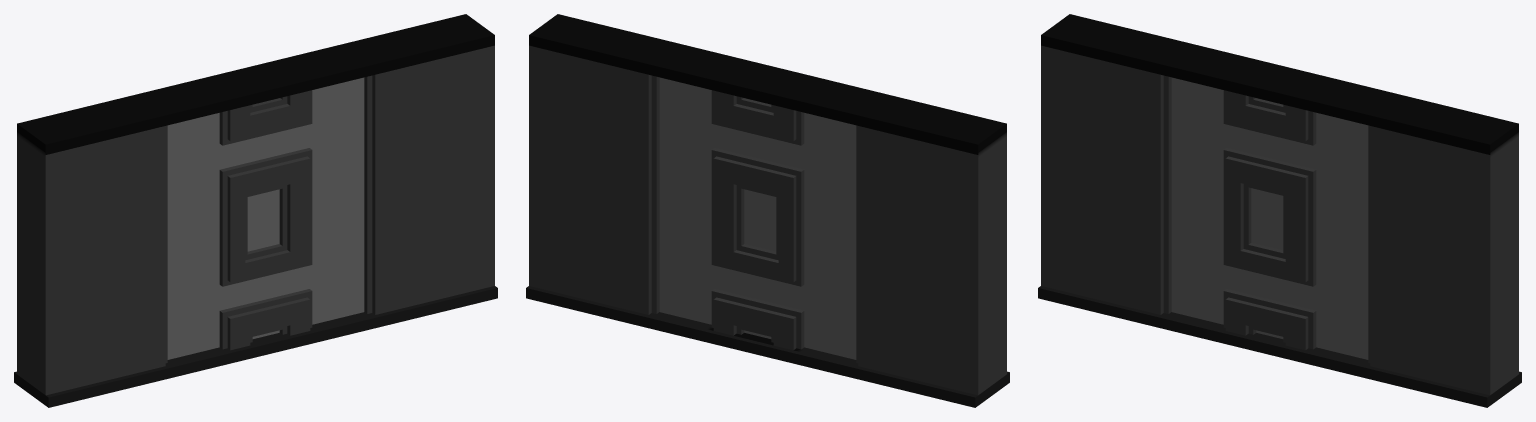
File: Wall-Stone-Model-07.fbx
The picture shows the model from 3 angles, left to right: view 1: azimuth 30°, elevation 25°; view 2: azimuth 150°, elevation 25°; view 3: azimuth 330°, elevation 25°; orthographic projection.
Parts seen in each view (by area): view 1: Wall-Stone-Model-07; view 2: Wall-Stone-Model-07; view 3: Wall-Stone-Model-07.
Boxes of the visible parts, left/top/right/bottom form: Wall-Stone-Model-07: left=14, top=14, right=497, bottom=407; Wall-Stone-Model-07: left=526, top=14, right=1009, bottom=407; Wall-Stone-Model-07: left=1038, top=14, right=1521, bottom=407.
Bounding box in the file's own units: 90 × 50 × 12.
1 material, 1 textured.
